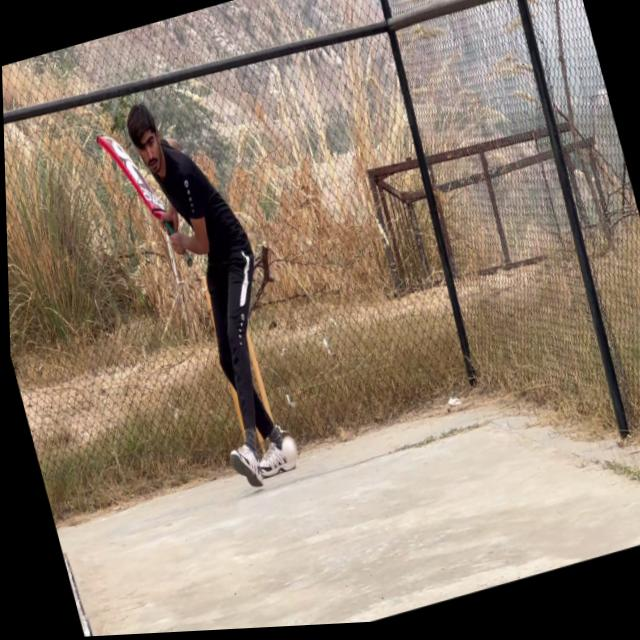Batsman: (109, 69, 322, 524)
